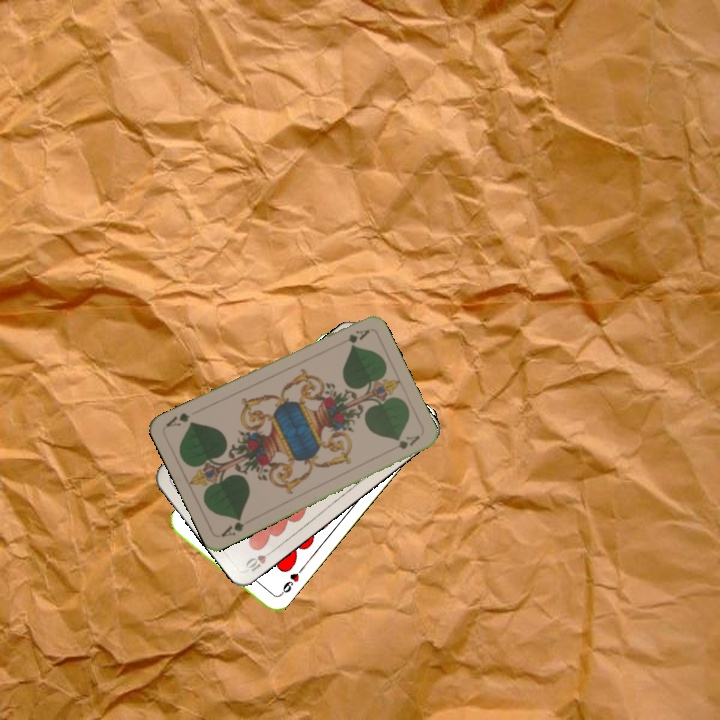GA: (217, 513, 254, 540), (333, 325, 372, 349)
H10: (241, 545, 278, 575)
H9: (275, 565, 305, 599)
